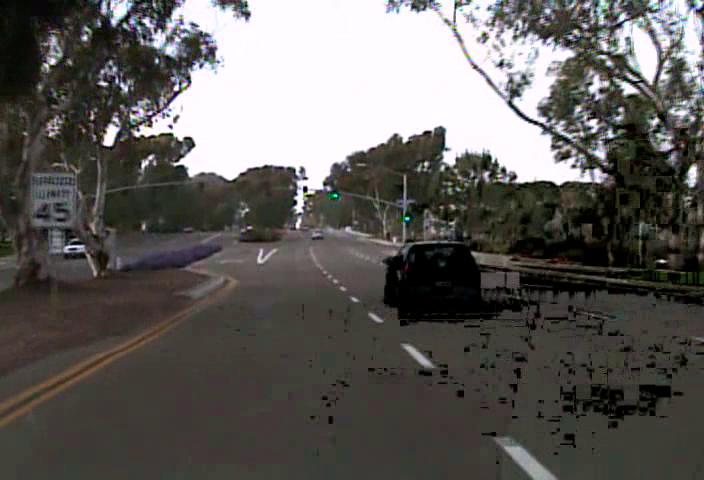speedLimit45: (28, 169, 77, 228)
